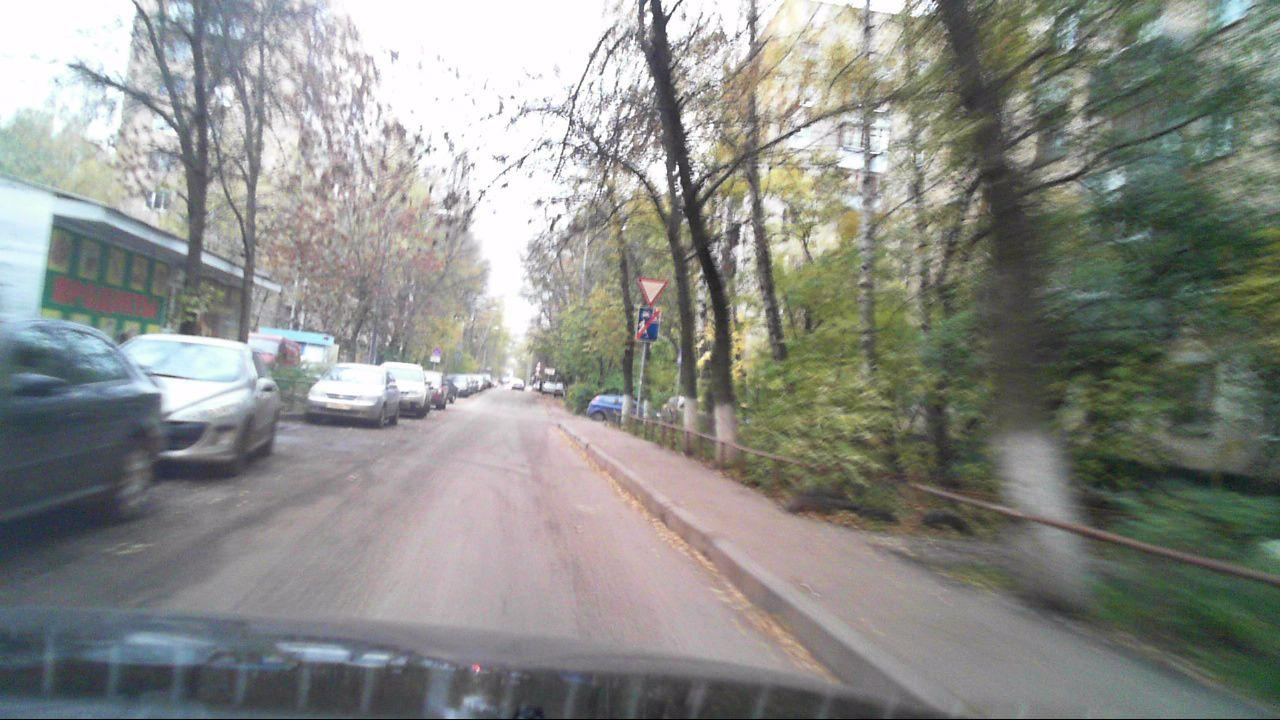2_4: (637, 274, 671, 306)
3_27: (432, 347, 441, 356)
5_22: (636, 306, 659, 342)
